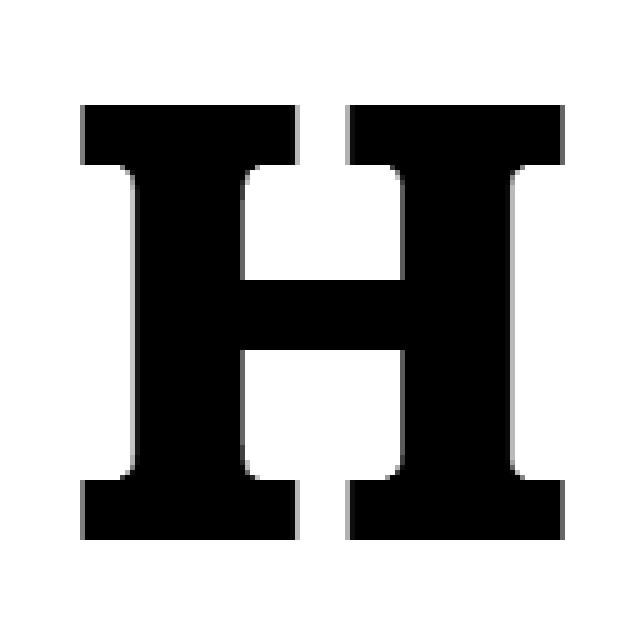H: (80, 105, 565, 540)
